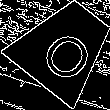O_NE: (31, 14, 98, 81)
